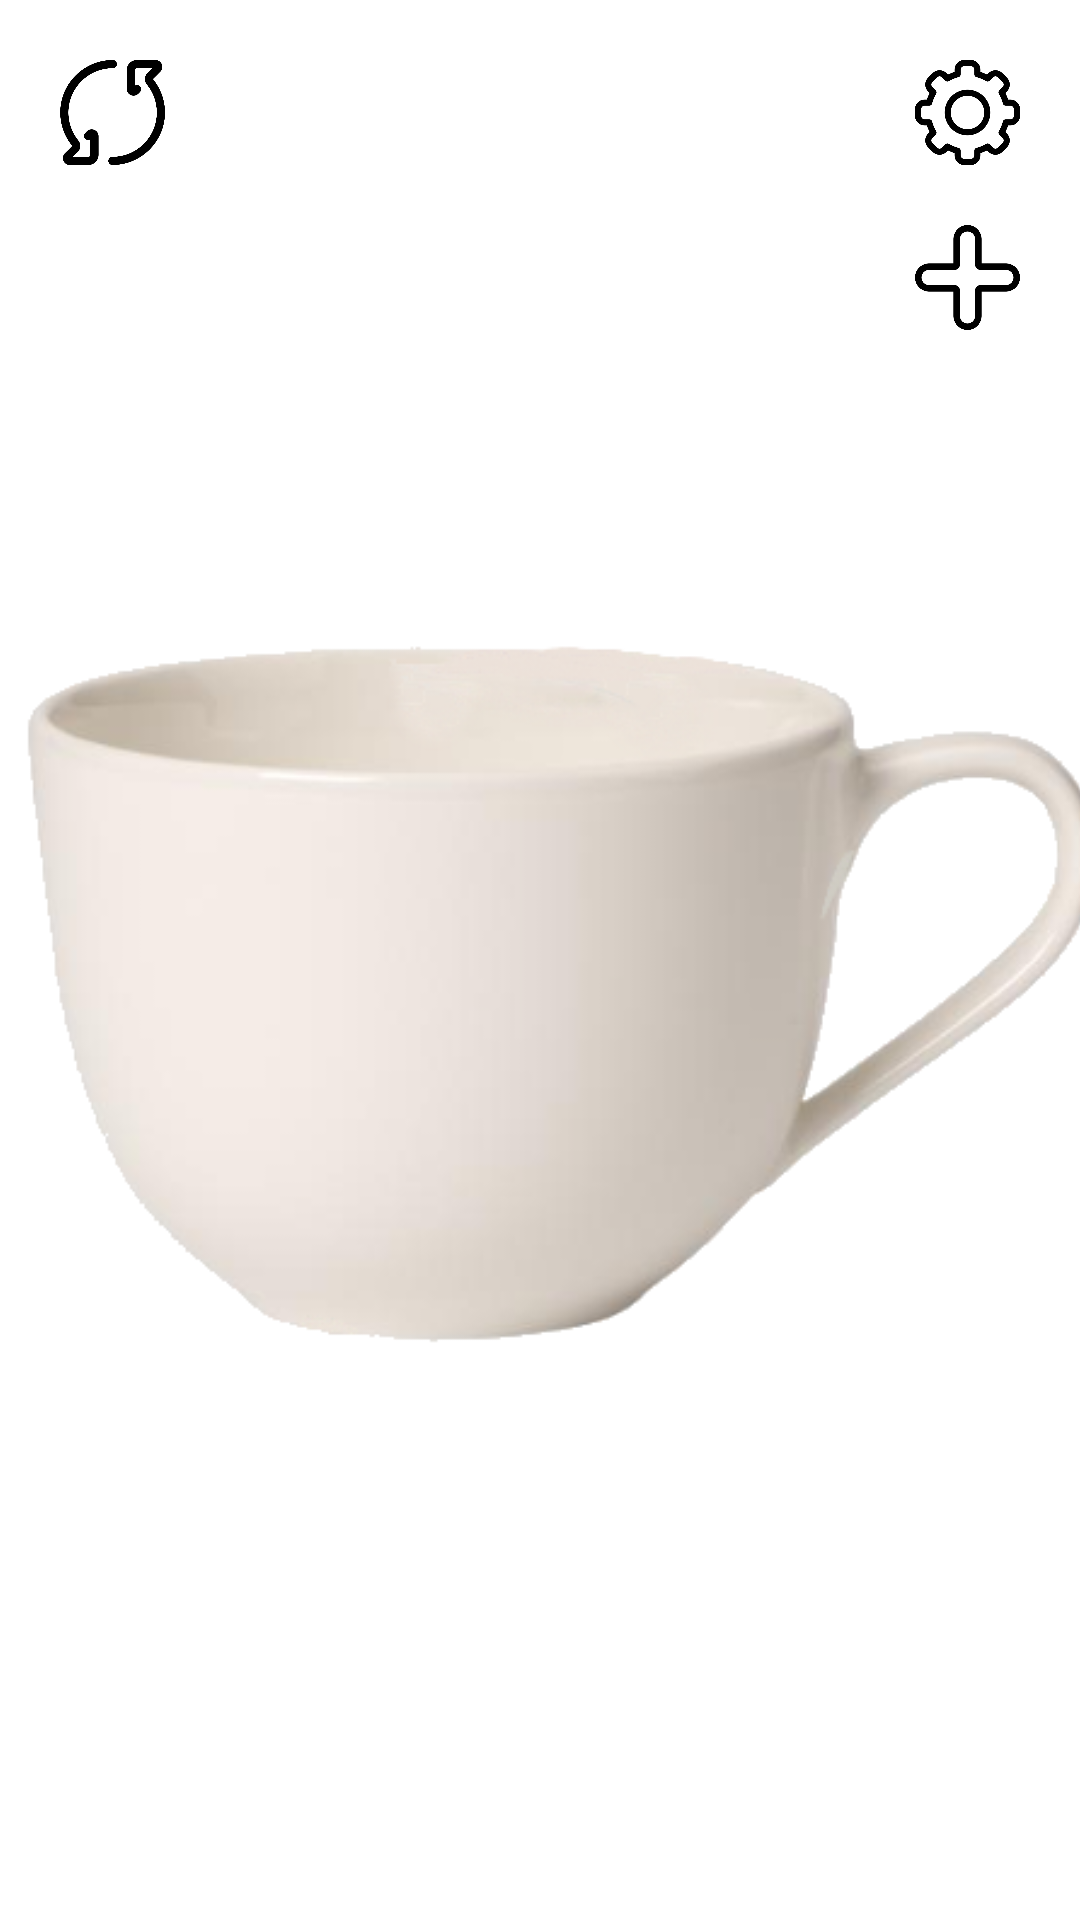

Where icons sit on this 1080px x 1920px app screen, as [left=x1, top=y1, right=x2, bottom=y2]:
add: [left=915, top=225, right=1020, bottom=330]
refresh: [left=60, top=60, right=165, bottom=165]
setting: [left=915, top=60, right=1020, bottom=165]
